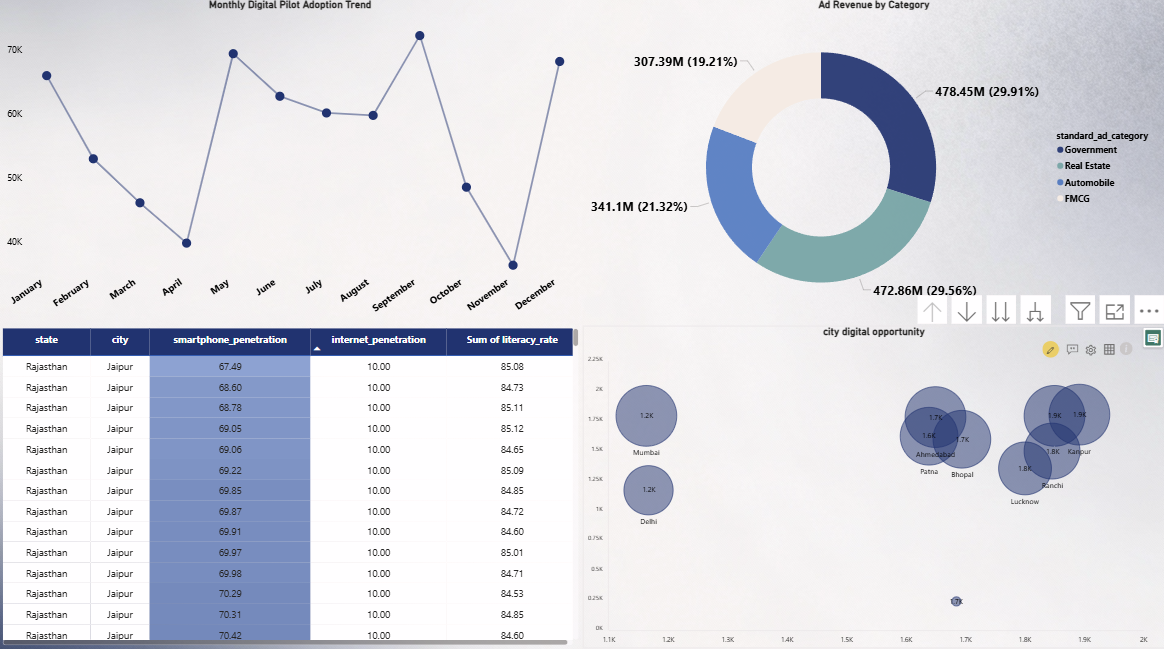

The page's visual inventory and layout, read from the dashboard file:
{"tool":"powerbi","page":{"name":"Survey","canvas":[1920,1080],"ordinal":1},"visuals":[{"type":"lineChart","title":"Monthly Digital Pilot Adoption Trend","fields":{"Y":["fact_digital_pilot.Total Downloads or Accesses"],"Category":["fact_digital_pilot.Date.Variation.Date Hierarchy.Month"]},"box":[0,0,959.2,539.3],"z":0},{"type":"donutChart","title":"Ad Revenue by Category","fields":{"Category":["dim_ad_category.standard_ad_category"],"Y":["fact_ad_revenue.Total Ad Revenue"]},"box":[961.2,0,959.2,539.3],"z":1000},{"type":"tableEx","fields":{"Values":["dim_city.state","dim_city.city","fact_city_readiness.smartphone_penetration","fact_city_readiness.internet_penetration","Sum(fact_city_readiness.literacy_rate)"]},"box":[0,539.3,959.2,531],"z":2000},{"type":"performanceBubbleChartFBAAA829CB604E5CAB4F21729F233294","title":"city digital opportunity","fields":{"xmeasure":["Sum(fact_city_readiness.smartphone_penetration)"],"ymeasure":["Sum(fact_city_readiness.internet_penetration)"],"zmeasure":["fact_city_readiness.Average Internet Penetration"],"category":["dim_city.city","dim_city.state","dim_city.tier"]},"box":[961,539,959,531],"z":3000}]}

Visuals, with their boxes on the page's 1920x1080 design canvas (x1, y1, x2, y2). These are canvas units, not pixel positions in the 1164x649 screenshot, which may show the page scaled, cropped or inside an application window:
"Monthly Digital Pilot Adoption Trend" lineChart: l=0, t=0, r=959, b=539
"Ad Revenue by Category" donutChart: l=961, t=0, r=1920, b=539
tableEx - dim_city.state x dim_city.city: l=0, t=539, r=959, b=1070
"city digital opportunity" performanceBubbleChartFBAAA829CB604E5CAB4F21729F233294: l=961, t=539, r=1920, b=1070
